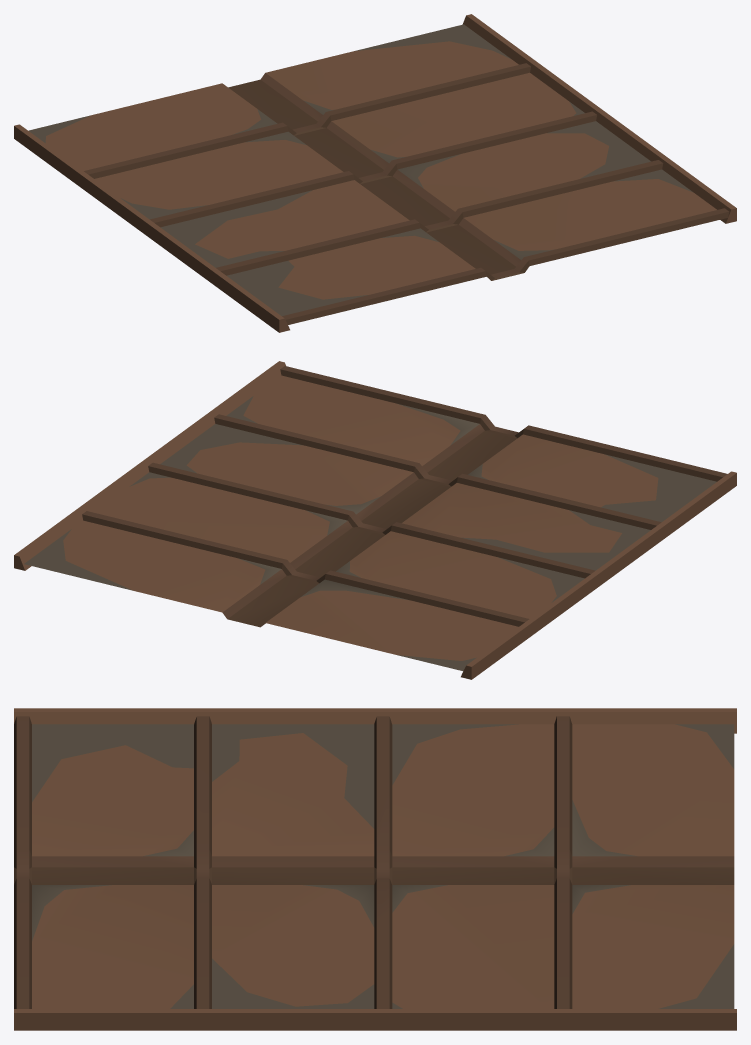
The model's file is SM_Env_Ground_Drydock_01.fbx.
3 renders of one model, top to bottom at view 1: azimuth 30°, elevation 25°; view 2: azimuth 150°, elevation 25°; view 3: azimuth 270°, elevation 25°, orthographic. The views are drawn at different scales.
Parts seen in each view (by area): view 1: SM_Env_Ground_Drydock_01; view 2: SM_Env_Ground_Drydock_01; view 3: SM_Env_Ground_Drydock_01.
Boxes of the visible parts, x1,y1,x2,y2 form: SM_Env_Ground_Drydock_01: (14, 14, 736, 332); SM_Env_Ground_Drydock_01: (14, 361, 736, 679); SM_Env_Ground_Drydock_01: (14, 708, 736, 1030).
Bounding box in the file's own units: 1000 × 27.14 × 1004.
